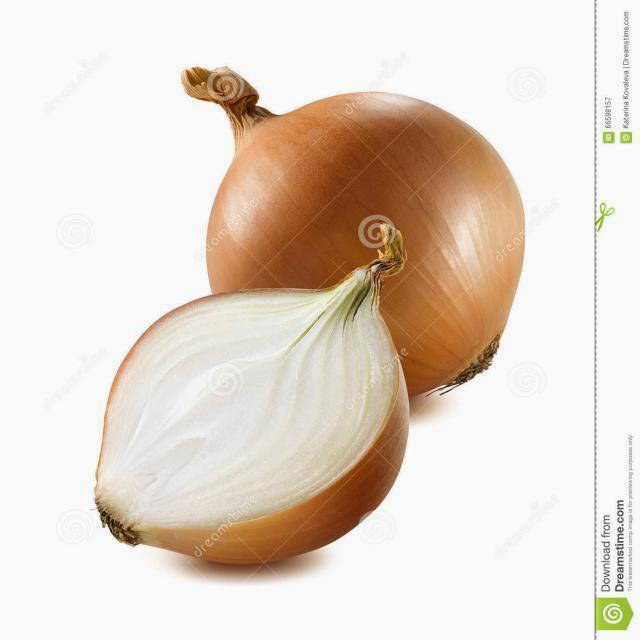onion: (180, 59, 527, 408), (93, 251, 415, 572)
